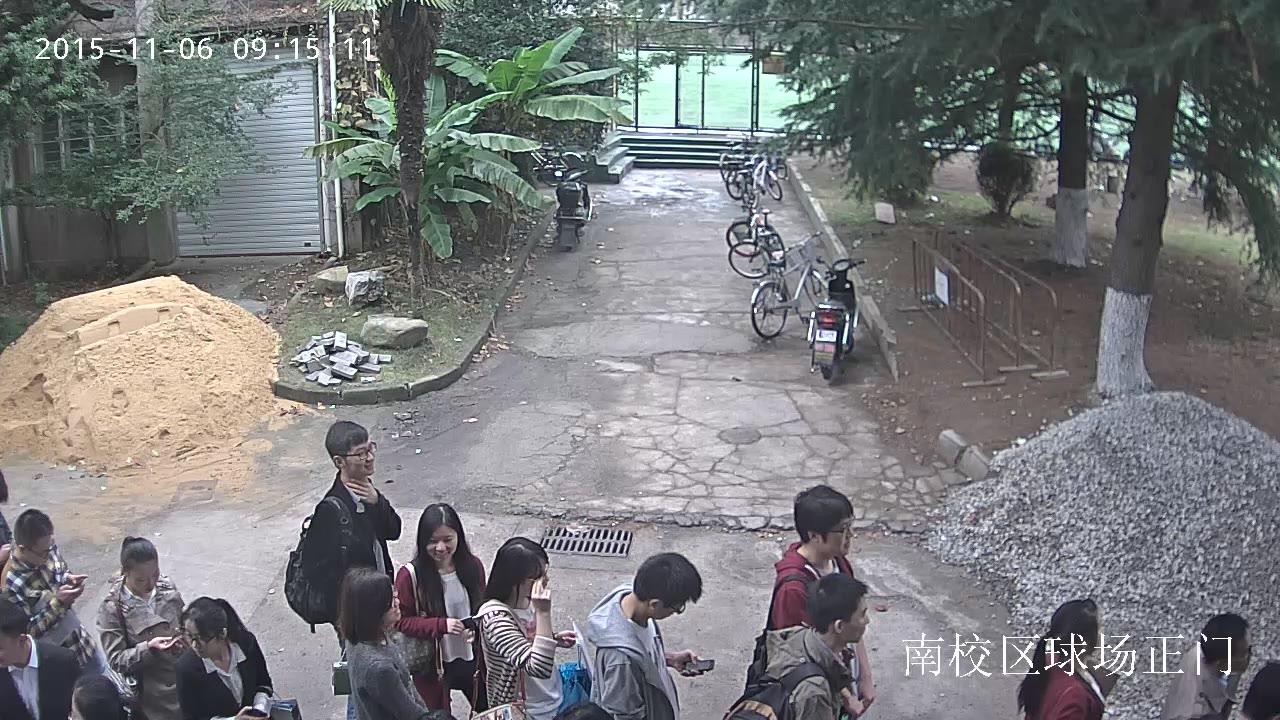person: (744, 485, 876, 720), (284, 421, 402, 651), (575, 552, 713, 720), (718, 573, 870, 720), (394, 503, 489, 720), (468, 535, 577, 720), (97, 535, 204, 720), (174, 596, 301, 720), (5, 510, 98, 673), (334, 565, 428, 720), (1015, 598, 1117, 720), (1158, 611, 1253, 720), (0, 599, 82, 720)
